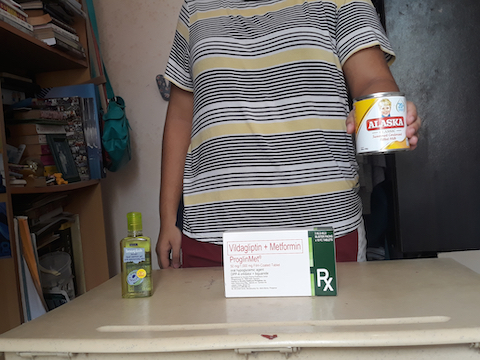bottle: (119, 208, 158, 301)
box: (221, 222, 340, 301)
can: (352, 88, 413, 160)
grab: (403, 95, 425, 149)
